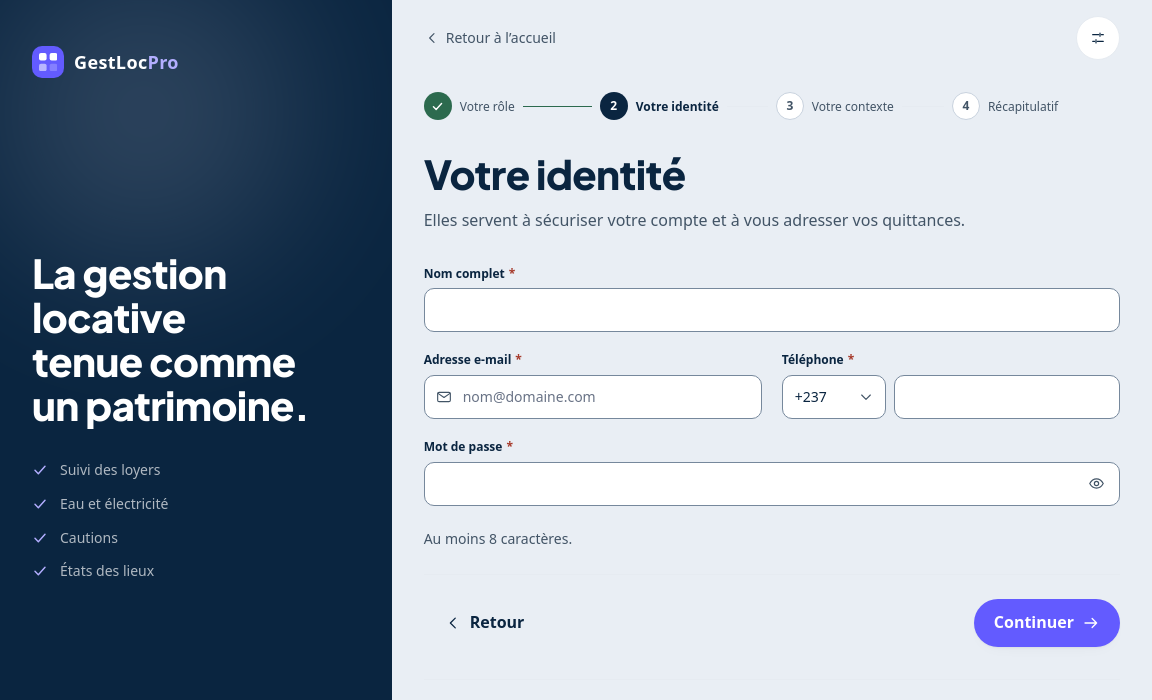
Scenario: inscription › fait remonter l’indicatif vers le pays, devise comprise
Step 1. Type "Arsène Nkomo" into the field labelled "Nom complet*" → {"x": 772, "y": 310}, box [424,288,1120,332]
Step 2. Type "arsene@example.com" into the field labelled "Adresse e-mail*" → {"x": 593, "y": 397}, box [424,375,762,419]
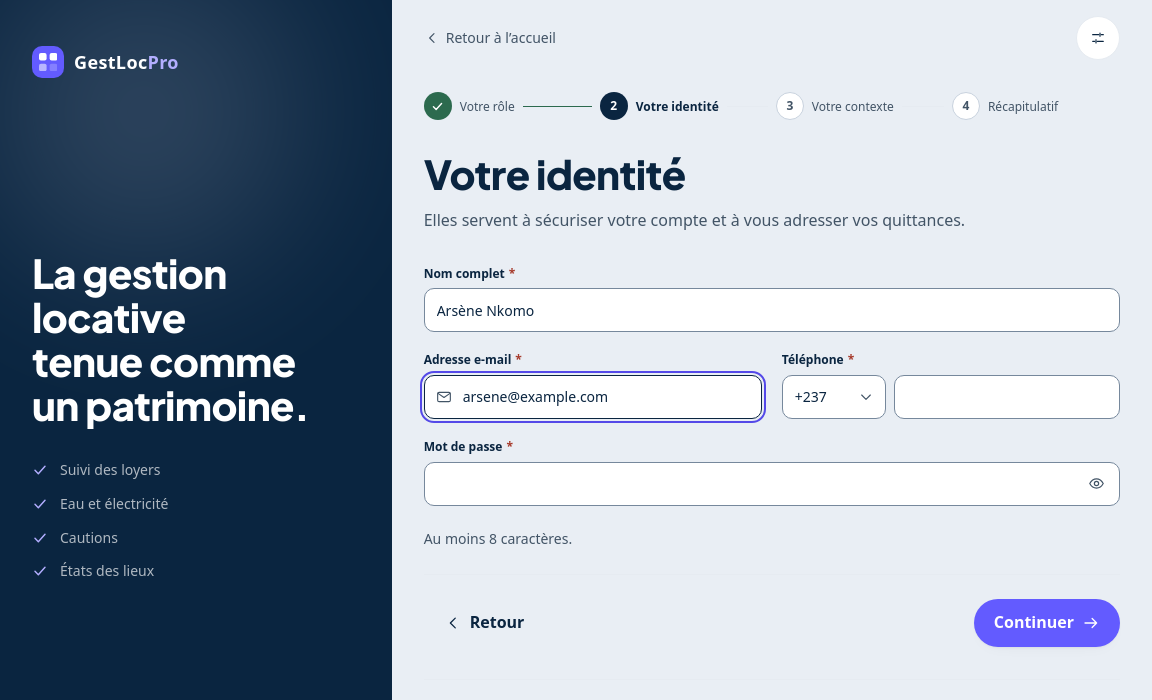
Step 3. Type "677889900" into the field labelled "Téléphone*" → {"x": 1007, "y": 397}, box [894,375,1120,419]
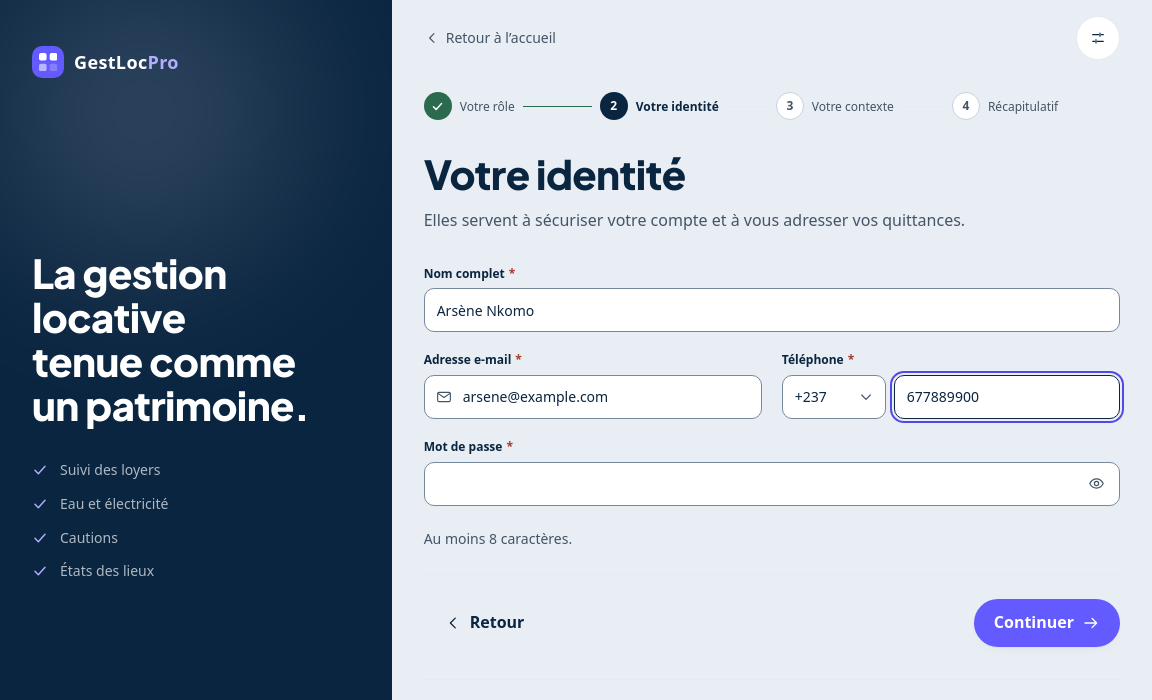
Step 4. Type "Bonamoussadi2026!" into the password field labelled "Mot de passe*" → {"x": 772, "y": 484}, box [424,462,1120,506]
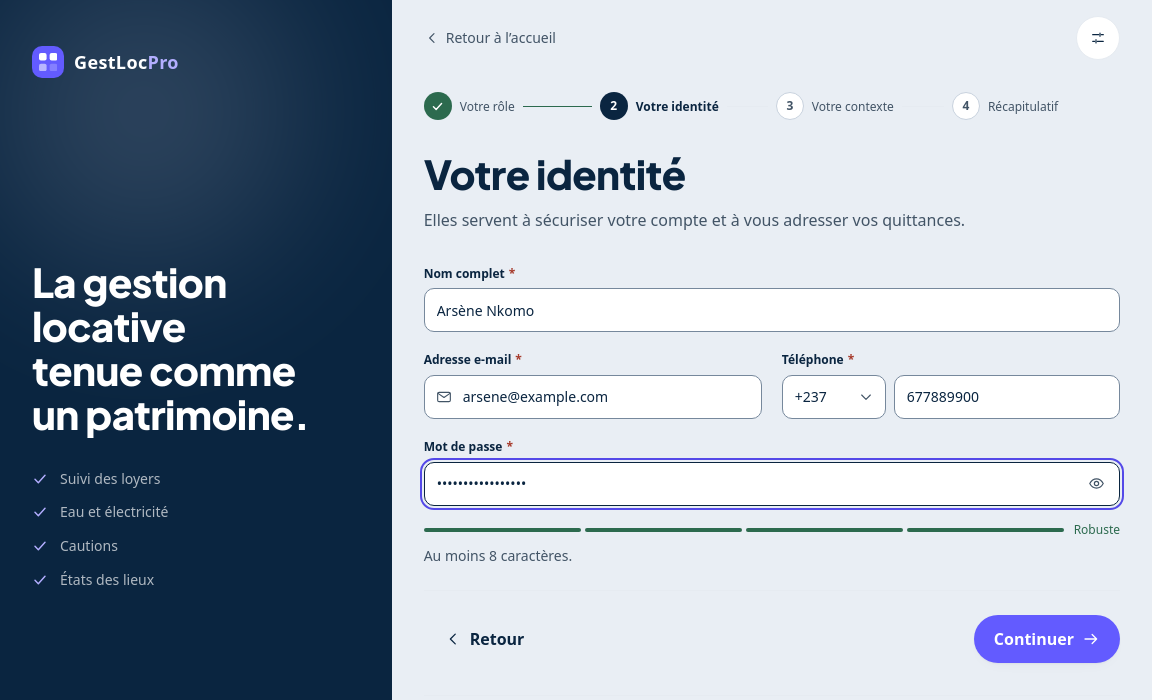
Step 5. Type "France" into the dropdown named "indicatif" → {"x": 834, "y": 397}, box [782,375,886,419]
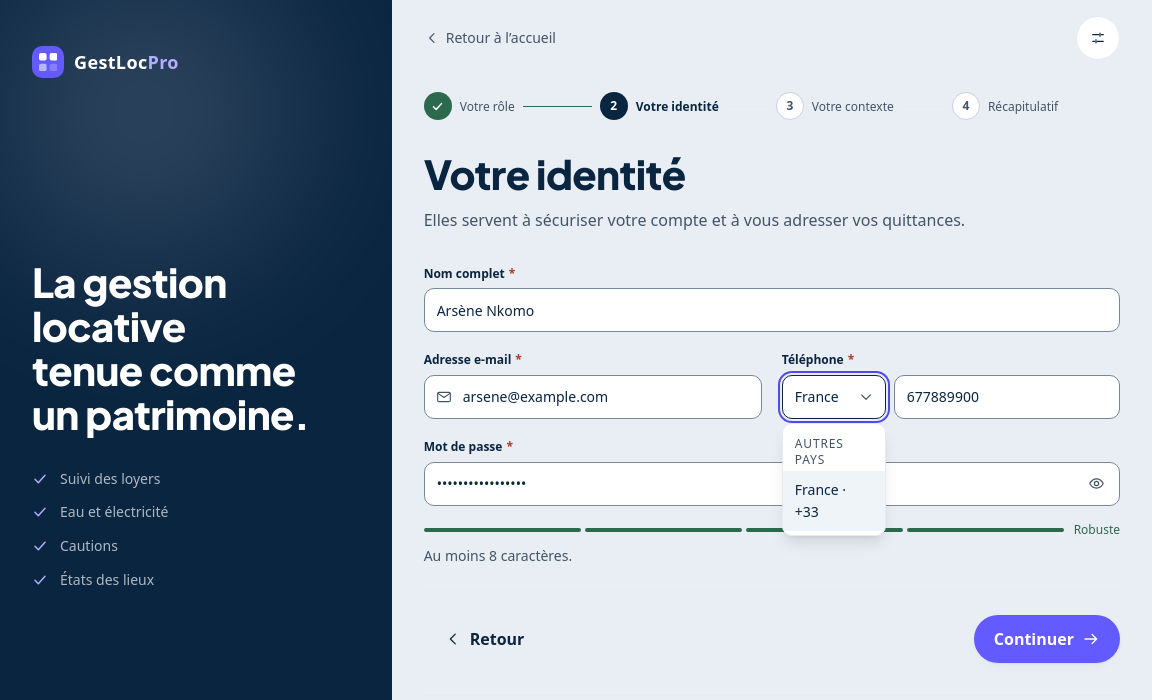
Step 6. Click the option "France · +33" → {"x": 834, "y": 501}, box [783,471,885,531]
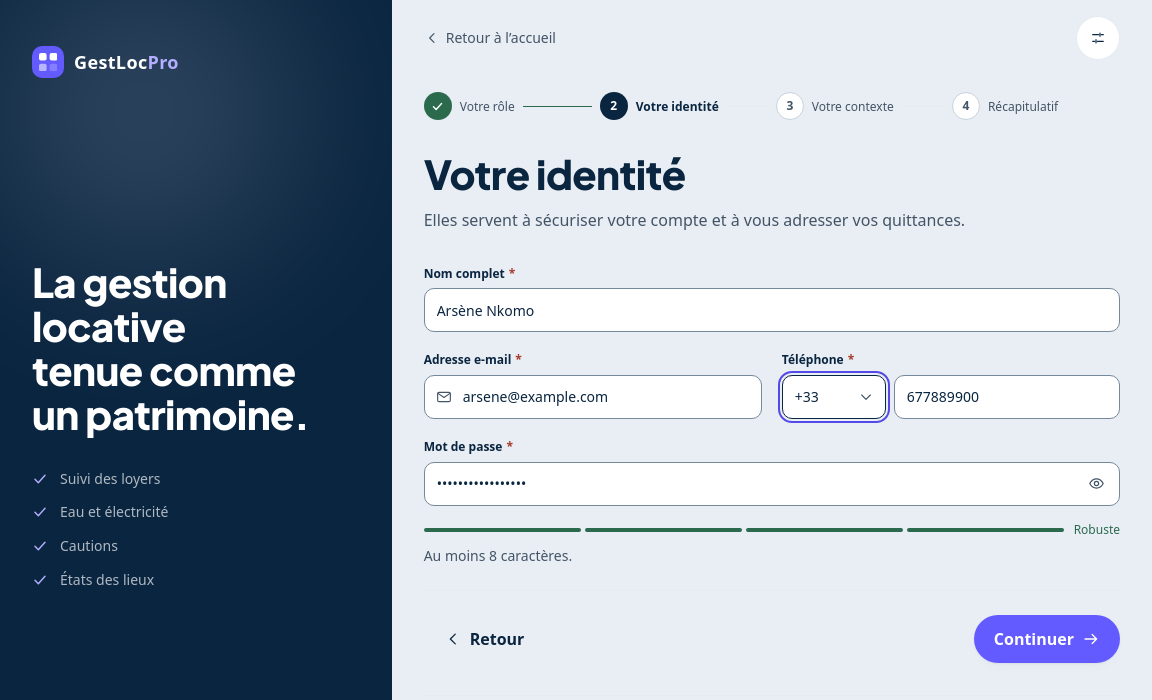
Step 7. Click the button "Continuer" → {"x": 1047, "y": 640}, box [974,616,1120,664]
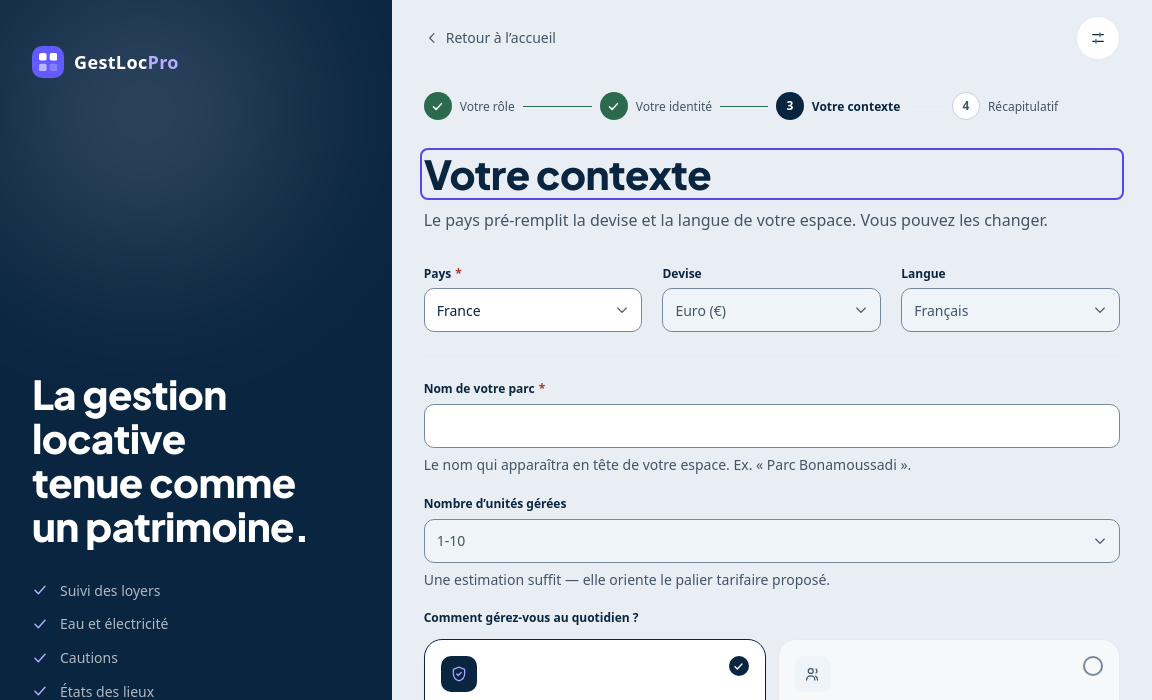
Result: the dropdown labelled "Pays*" holds "France" at [424,288,642,332]
Result: the dropdown labelled "Devise" shows "Euro (€)" at [662,288,881,332]
